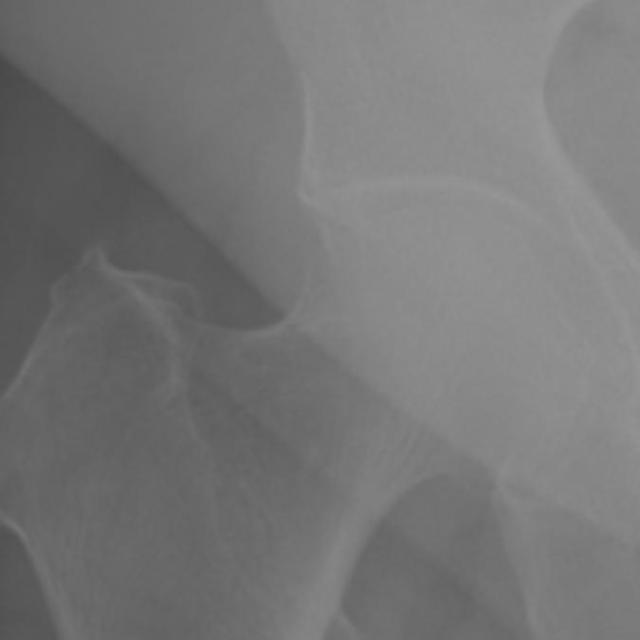Fitted_femural_head: (301, 204, 432, 301)
